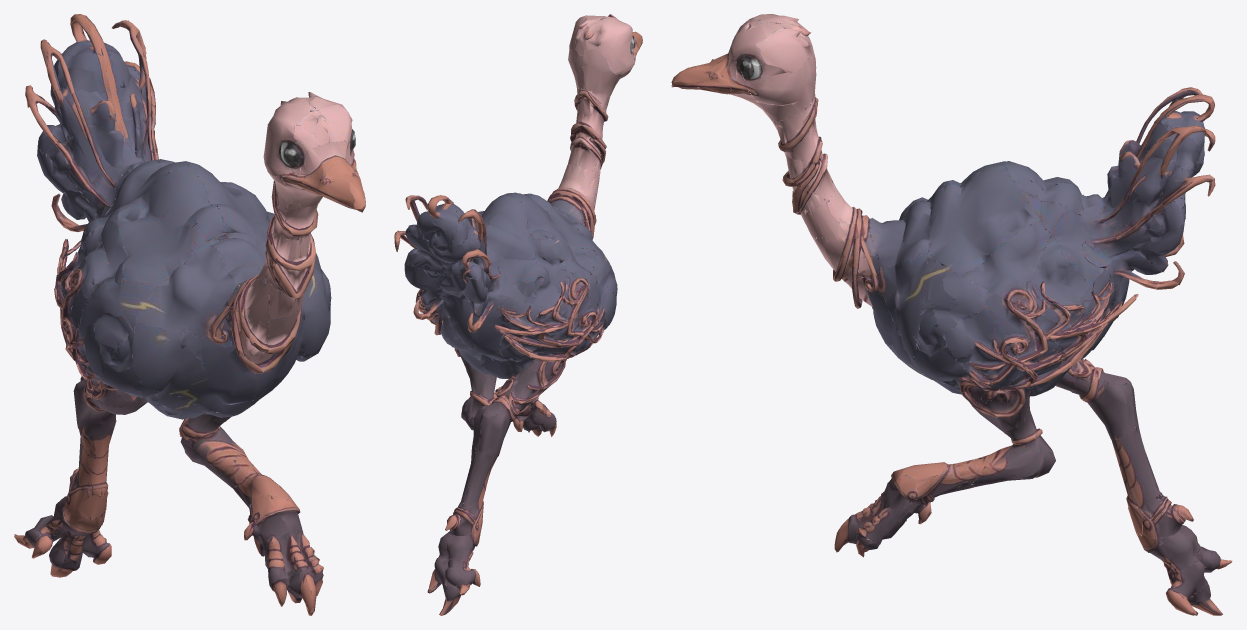
The picture shows the model from 3 angles, left to right: view 1: azimuth 30°, elevation 25°; view 2: azimuth 150°, elevation 25°; view 3: azimuth 270°, elevation 25°; orthographic projection. The views are drawn at different scales.
Visible parts, largest first — view 1: Mesh_0; view 2: Mesh_0; view 3: Mesh_0.
Part boxes in pixels (x1,y1,x2,y2): Mesh_0: (14, 14, 365, 615); Mesh_0: (394, 14, 642, 615); Mesh_0: (671, 14, 1232, 615).
Size of the model in its own units: 0.7263 by 1.89 by 1.6.
Materials: 1 (1 with a texture image).
